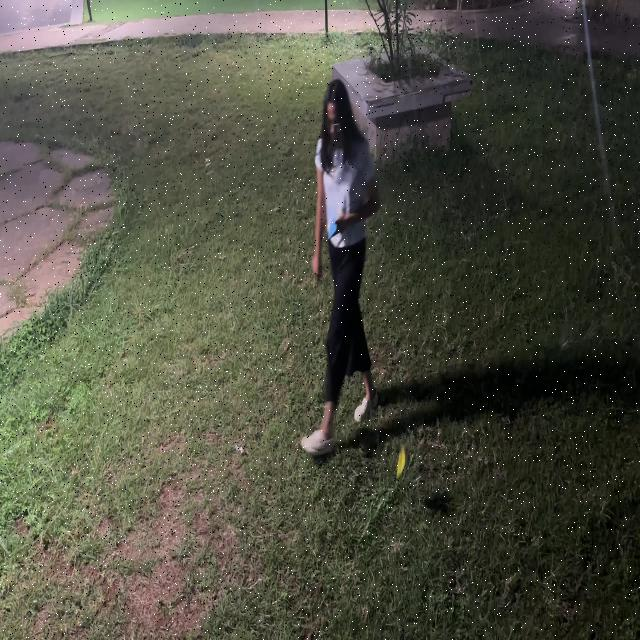human: (298, 70, 386, 458)
trash: (390, 445, 411, 483)
